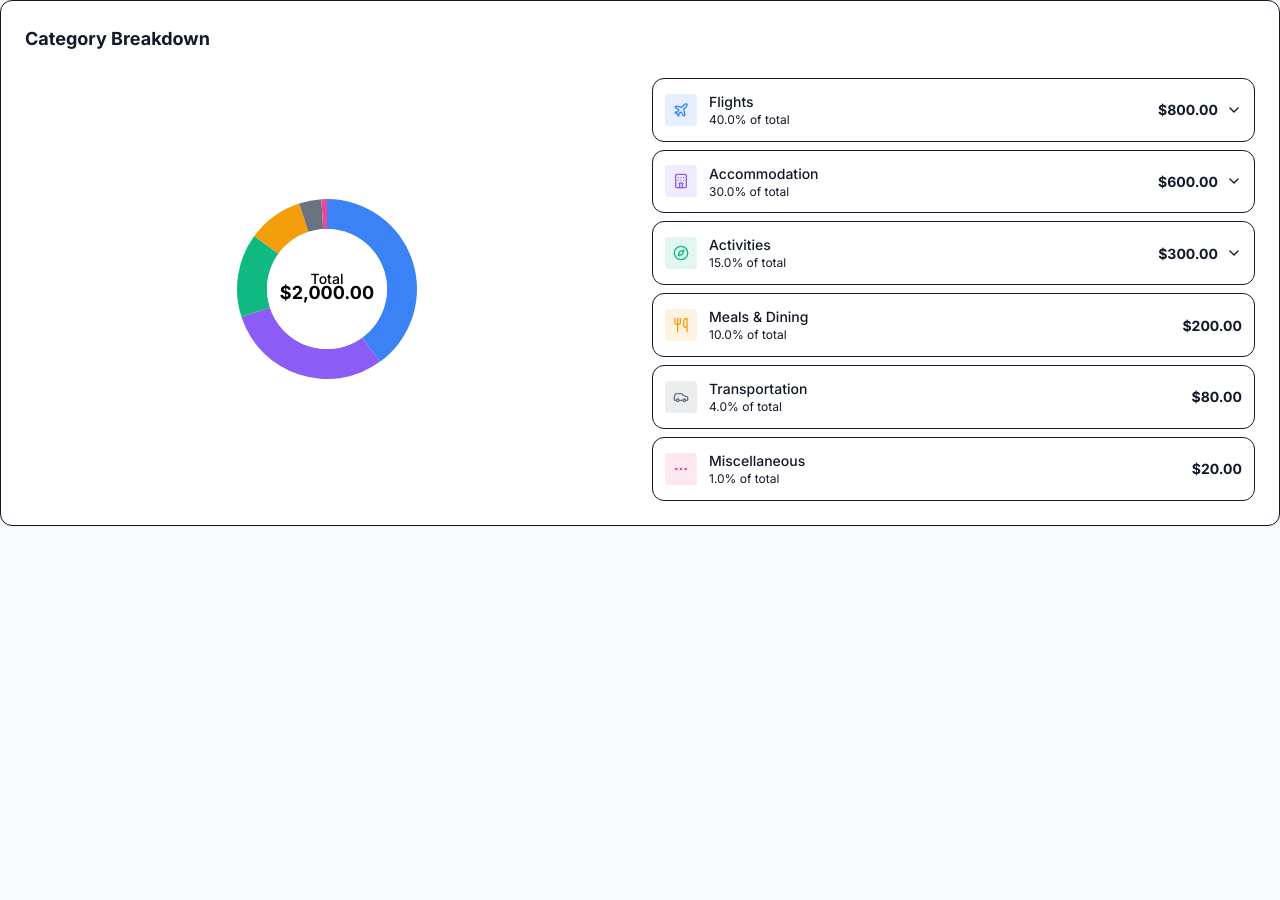
Test: CategoryBreakdown › Category Expansion › collapses category when clicked again
Click to expand
What coordinates should you click on to do the following:
click the button "Flights 40.0% of total $800.00"
I would click on:
 (681, 110)
Its box is [653, 79, 1254, 141].
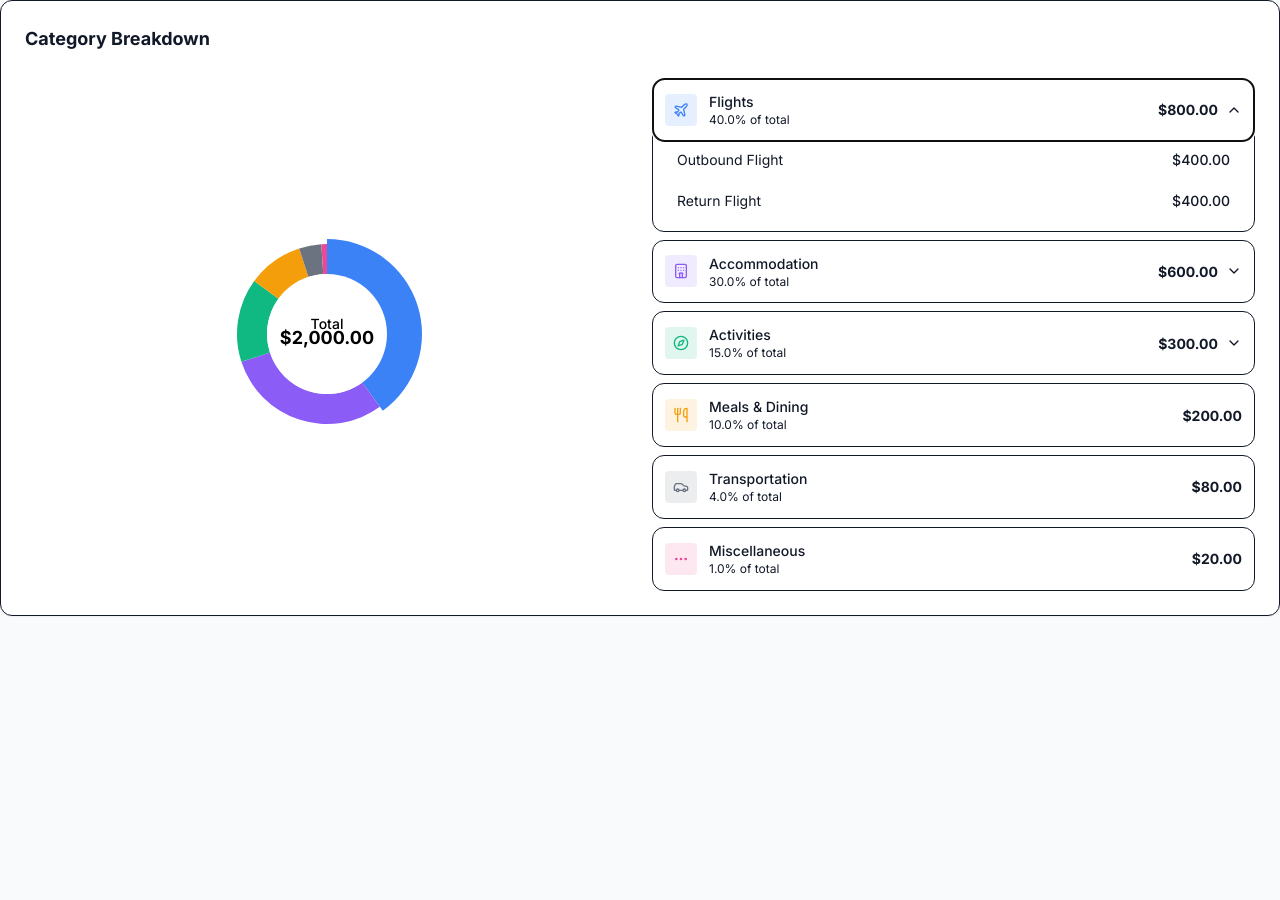
Expected: the text "Outbound Flight" is shown, [677, 149, 783, 170]
Click to collapse
What coordinates should you click on to do the following:
click the button "Flights 40.0% of total $800.00"
I would click on:
 (681, 110)
Its box is [653, 79, 1254, 141].
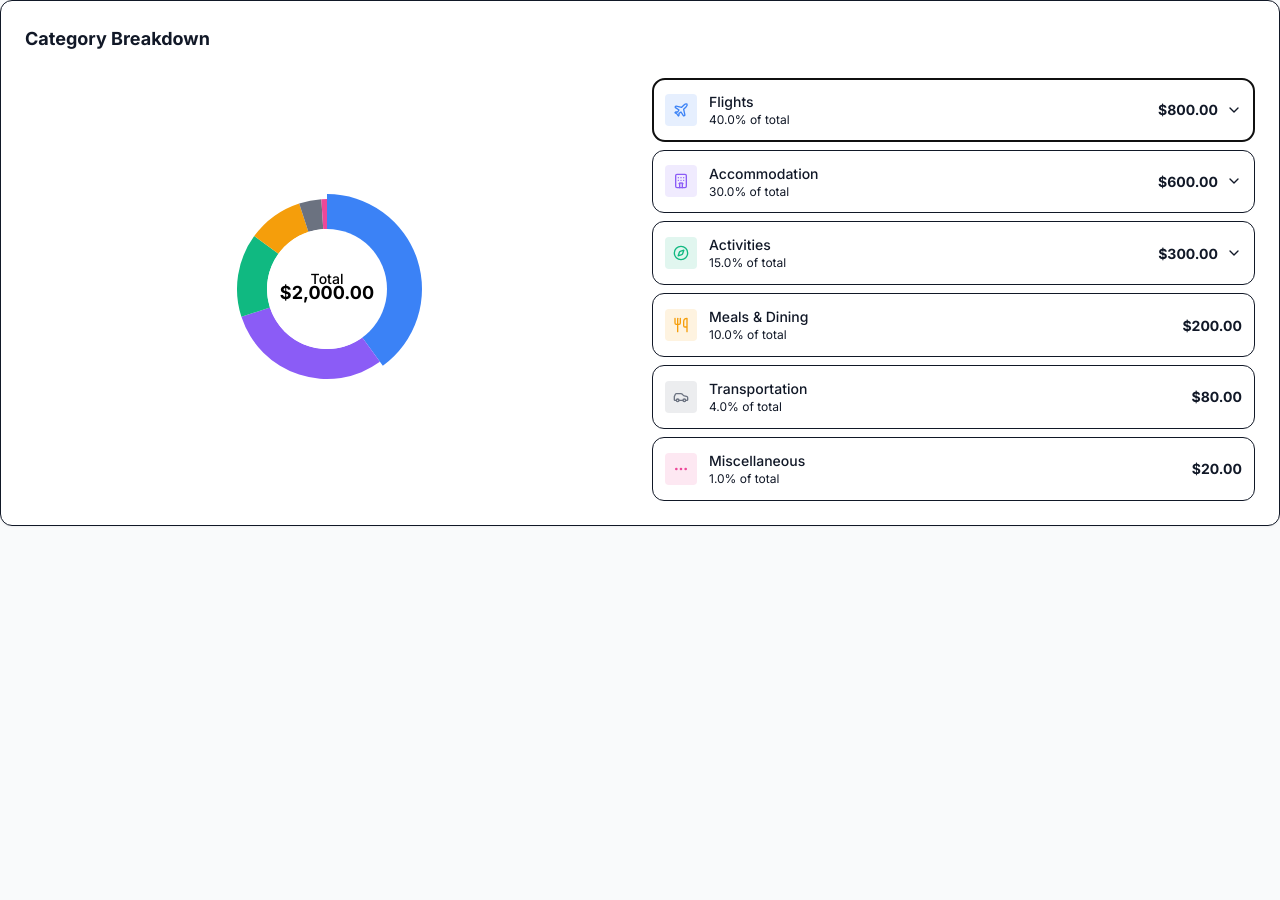
Expected: the text "Outbound Flight" is gone
